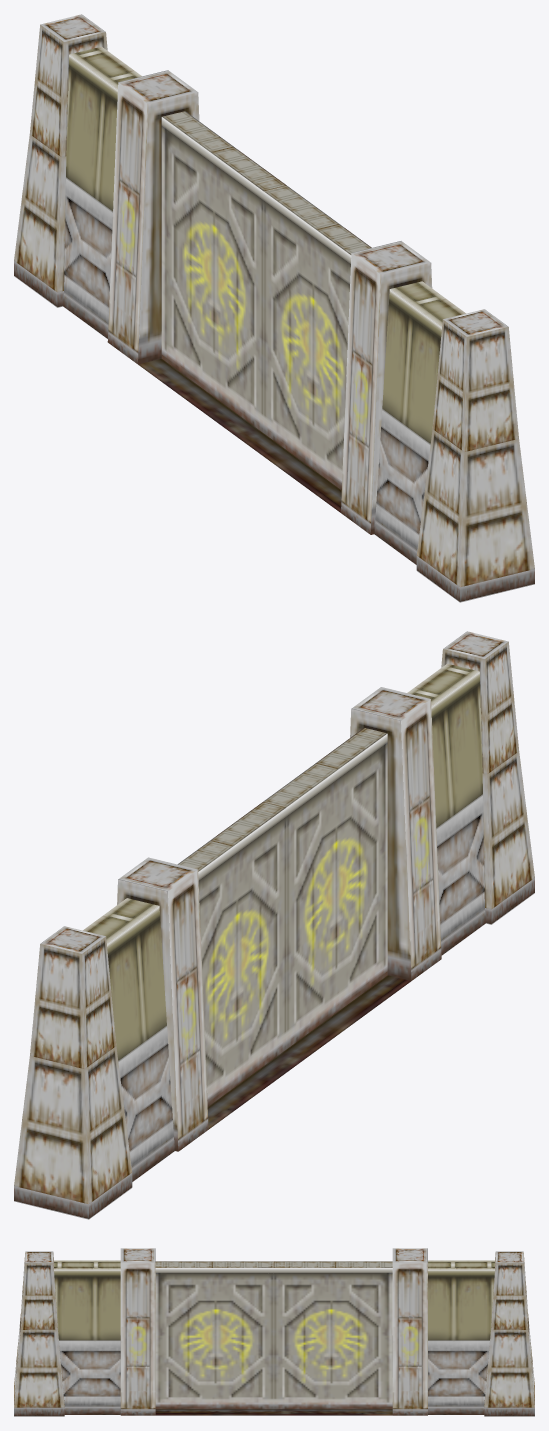
The model's file is d_heavygate.glb.
3 renders of one model, top to bottom at view 1: azimuth 30°, elevation 25°; view 2: azimuth 150°, elevation 25°; view 3: azimuth 270°, elevation 25°, orthographic. The views are drawn at different scales.
Visible parts, largest first — view 1: D_HeavyGate, D_HeavyGateDoor; view 2: D_HeavyGate, D_HeavyGateDoor; view 3: D_HeavyGate, D_HeavyGateDoor.
Part boxes in pixels (left/top/right/bottom): D_HeavyGate: left=14, top=14, right=534, bottom=602; D_HeavyGateDoor: left=161, top=111, right=371, bottom=490; D_HeavyGate: left=14, top=631, right=534, bottom=1219; D_HeavyGateDoor: left=177, top=727, right=387, bottom=1106; D_HeavyGate: left=14, top=1248, right=534, bottom=1416; D_HeavyGateDoor: left=155, top=1261, right=392, bottom=1409.
Bounding box in the file's own units: 5.5 × 18.16 × 56.69.
Materials: 2 (2 with a texture image).
